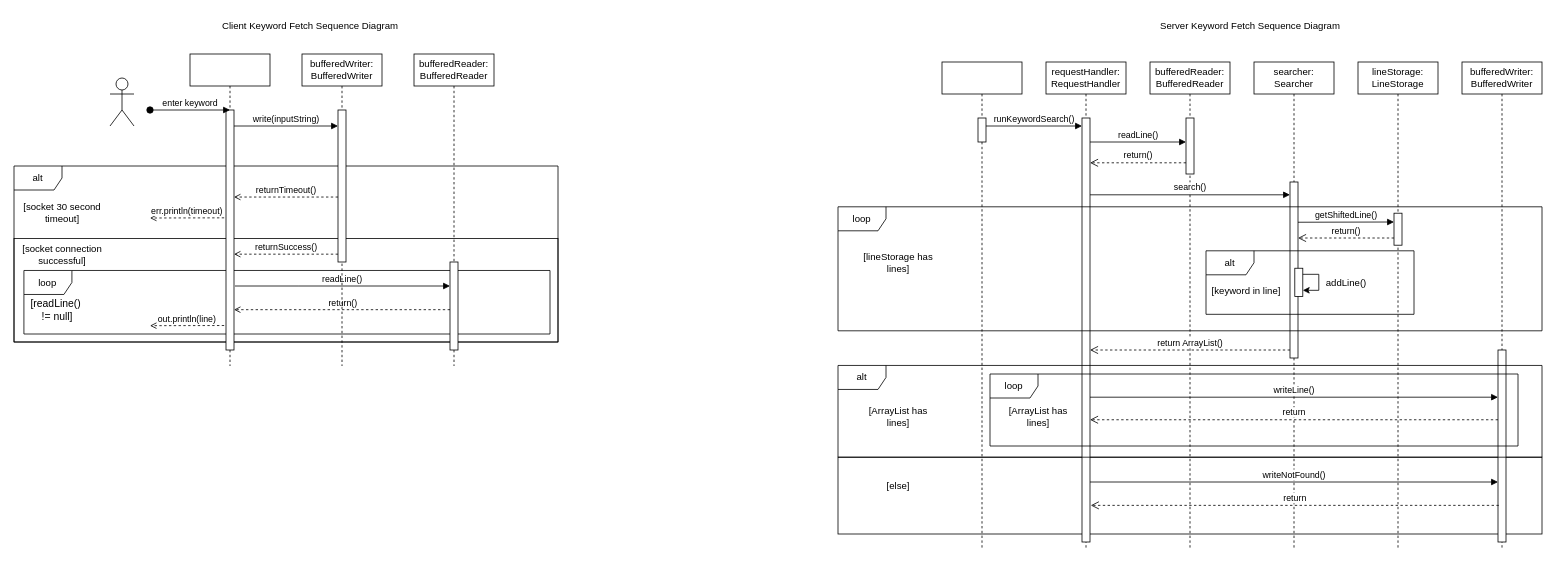
Some shapes in this 1556 by 564 pixel diagram are drawn without their labels. Here are the shapes that lost their labels. From the top down, the box of each, then its label:
(109, 77, 134, 126): User
(189, 53, 270, 366): :KWICClient
(941, 61, 1022, 550): : KWICServer
